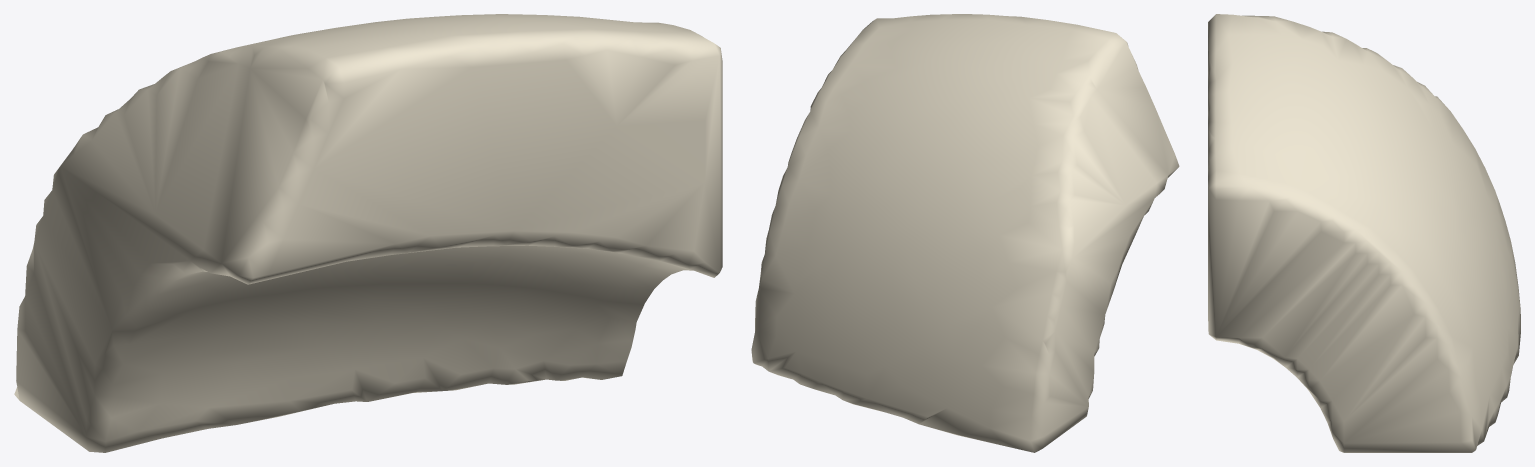
The model's file is parietal_r.glb.
3 renders of one model, left to right at view 1: azimuth 30°, elevation 25°; view 2: azimuth 150°, elevation 25°; view 3: azimuth 270°, elevation 25°, orthographic. The views are drawn at different scales.
Visible parts, largest first — view 1: geometry_0; view 2: geometry_0; view 3: geometry_0.
Part boxes in pixels (bbox=[...]): geometry_0: bbox=[14, 14, 722, 452]; geometry_0: bbox=[751, 14, 1179, 452]; geometry_0: bbox=[1208, 14, 1520, 452].
Size of the model in its own units: 0.1301 by 0.1199 by 0.1075.
